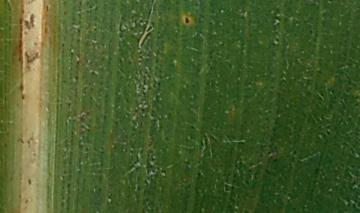tarspot: (182, 13, 193, 27)
